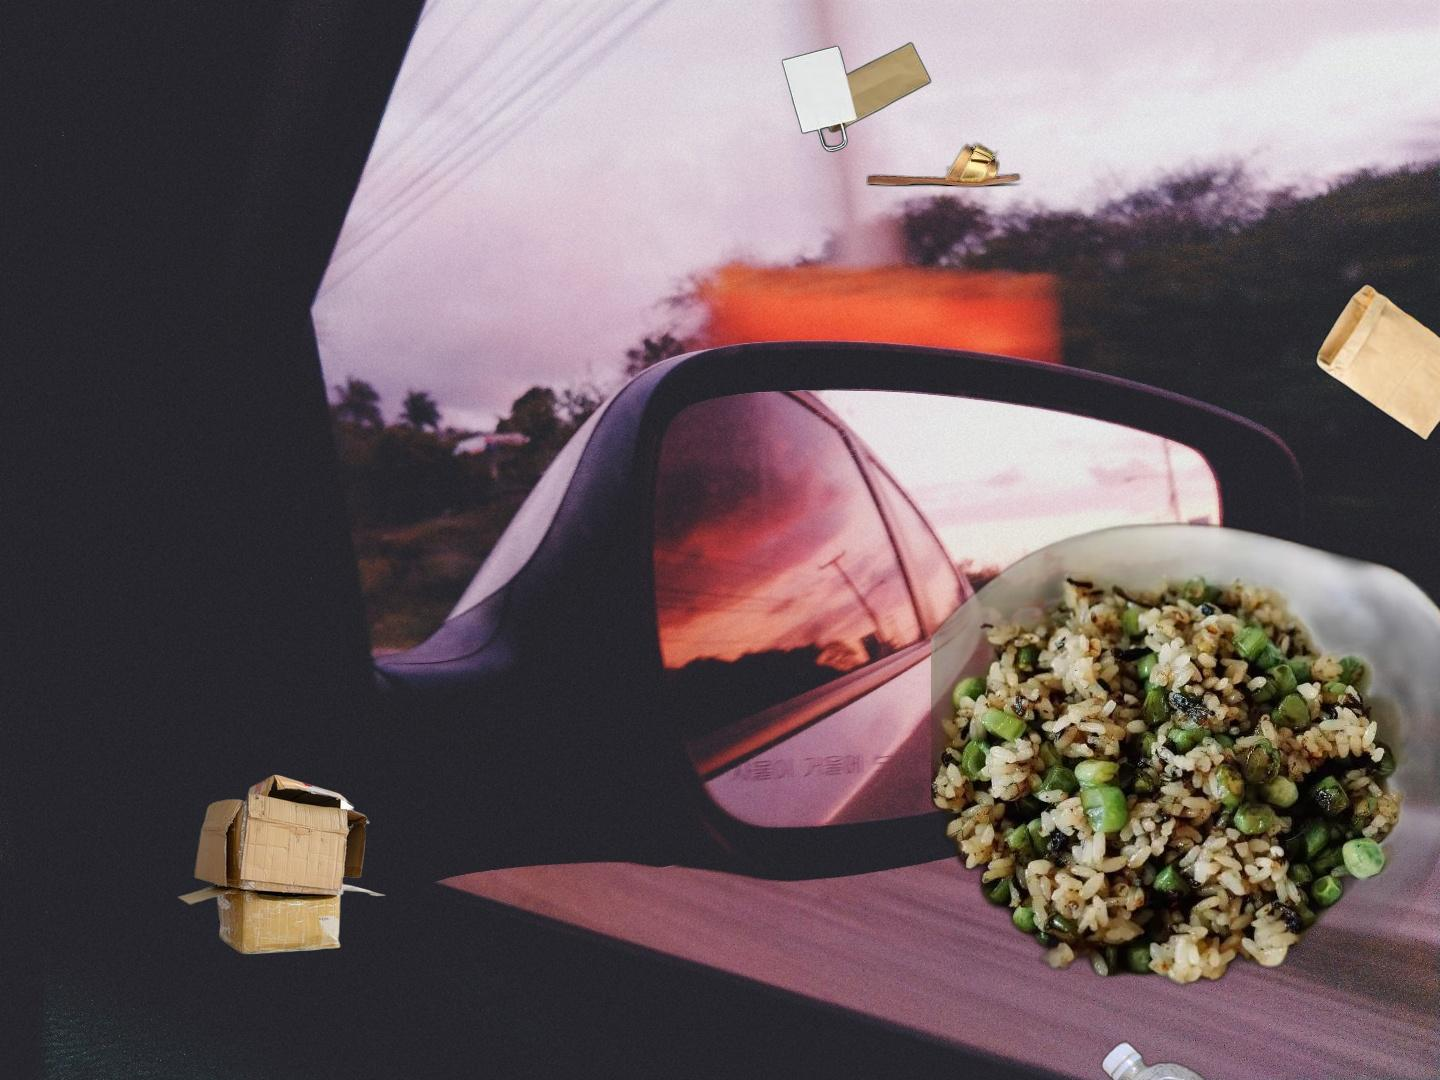battery: (1417, 1036, 1440, 1080)
biological: (931, 410, 1440, 1037)
paper-bag: (1313, 281, 1440, 444), (779, 39, 934, 154)
plastic-bottles: (1096, 811, 1306, 1080)
shoes: (864, 140, 1025, 189)
trashbox-cardboard: (81, 773, 390, 1012)
